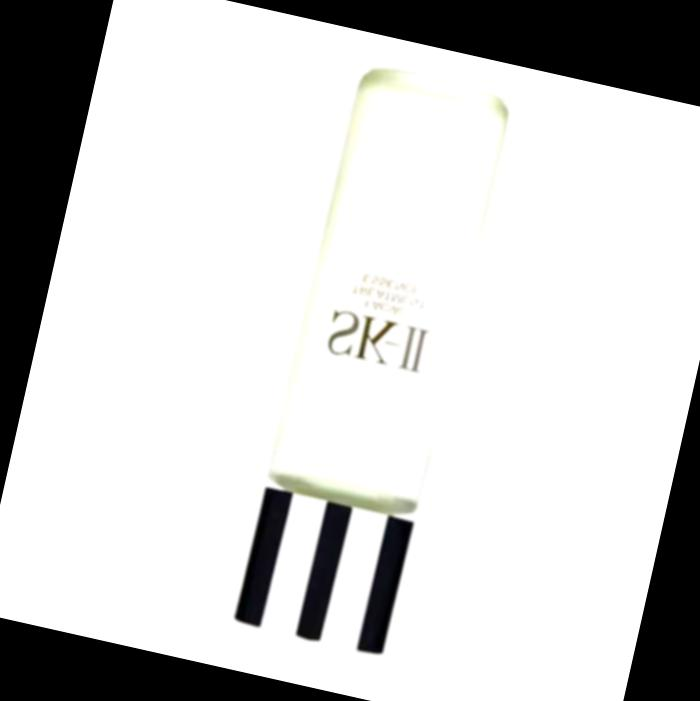cosmetic: (231, 57, 520, 655)
